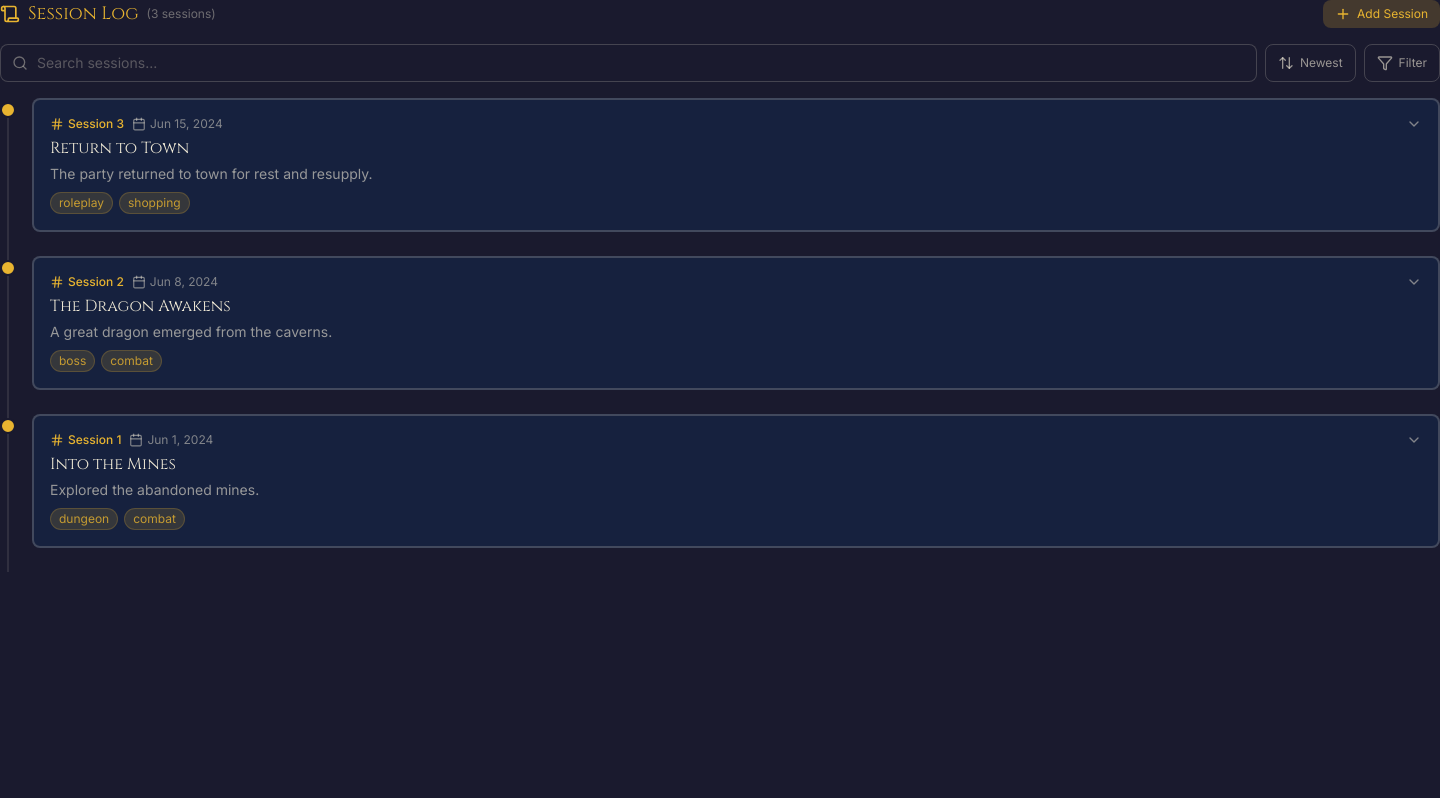
Test: SessionLog › should open editor with pre-filled session number and today's date on "Add Session" click
Click the button with aria-label "Add new session": (1382, 14) [1323,0,1439,28]
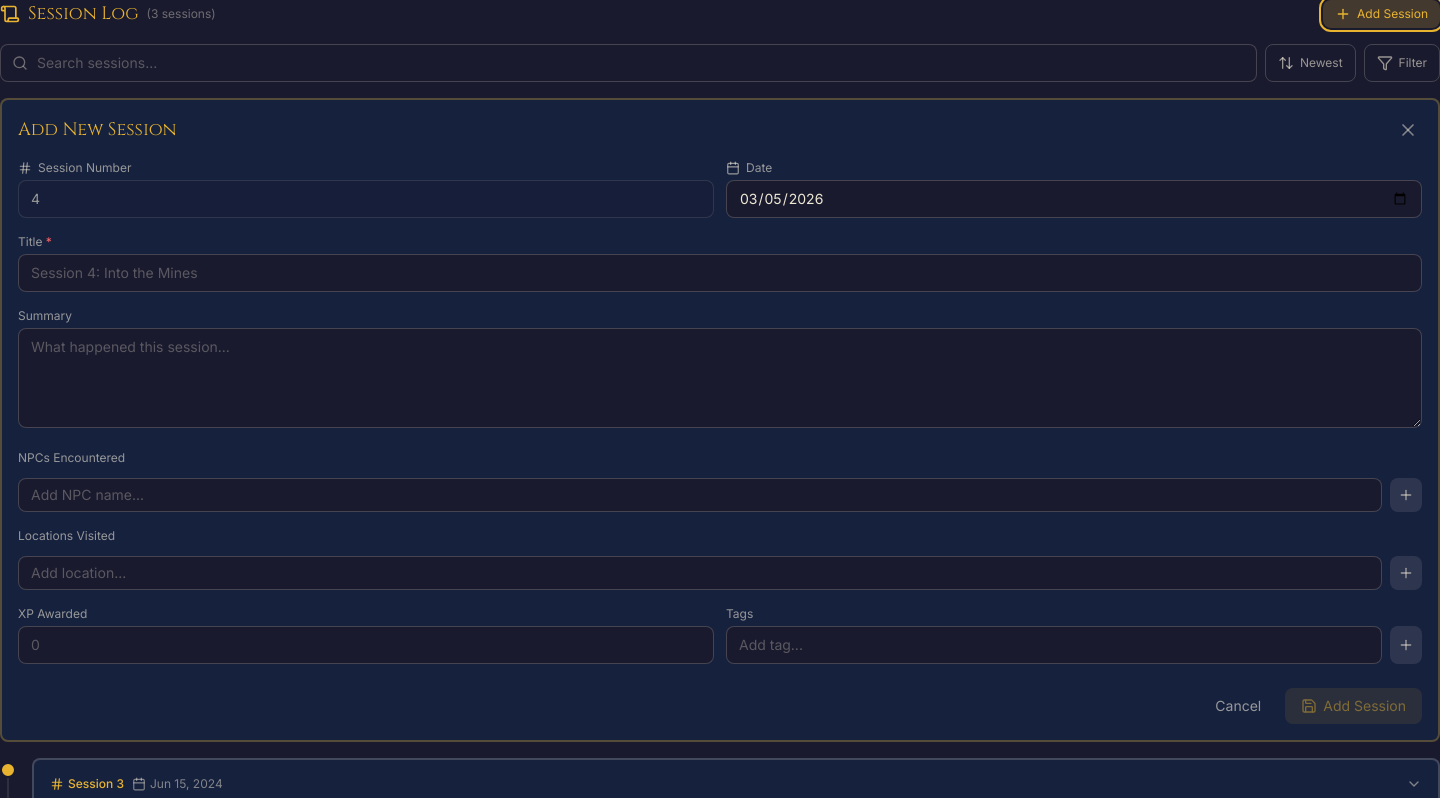
Expected: the form with test id "session-note-form" is shown
Expected: the heading "Add New Session" is shown, [18,116,176,144]
